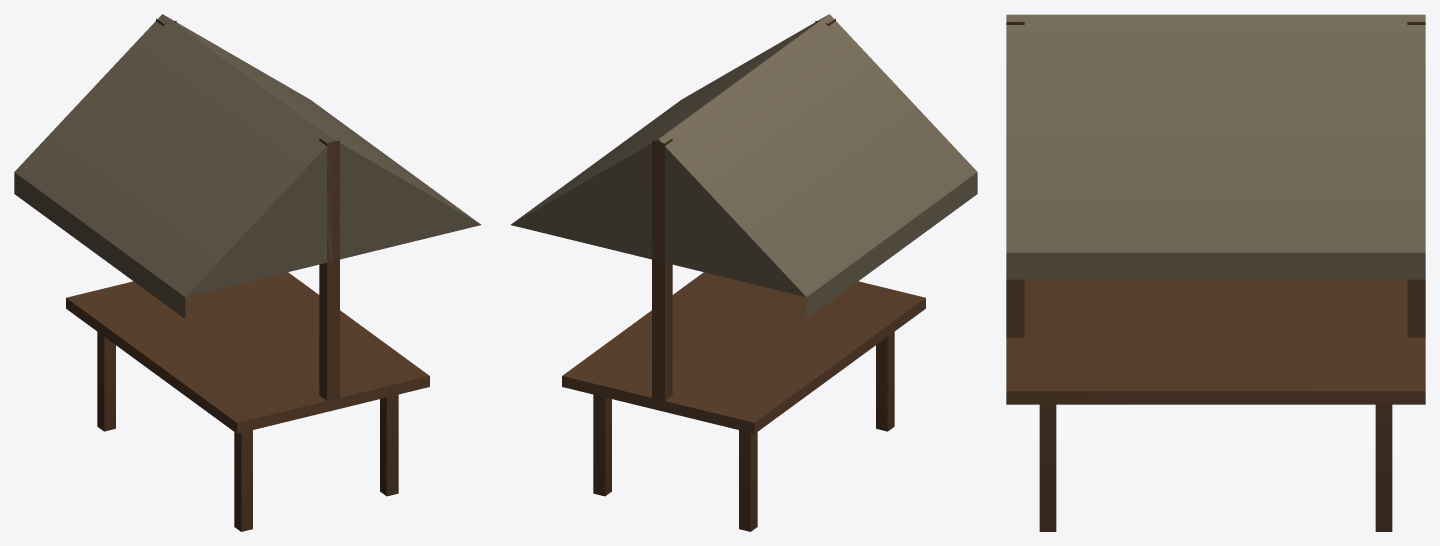
Rendered from stall.market.bare.glb.
3 renders of one model, left to right at view 1: azimuth 30°, elevation 25°; view 2: azimuth 150°, elevation 25°; view 3: azimuth 270°, elevation 25°, orthographic. The views are drawn at different scales.
Visible parts, largest first — view 1: stall_market_bare; view 2: stall_market_bare; view 3: stall_market_bare.
Part boxes in pixels (bbox=[...]): stall_market_bare: bbox=[14, 14, 480, 531]; stall_market_bare: bbox=[511, 14, 977, 531]; stall_market_bare: bbox=[1006, 14, 1425, 531].
Size of what is drawn, in the model's own units: 2.26 by 2.8 by 2.26.
